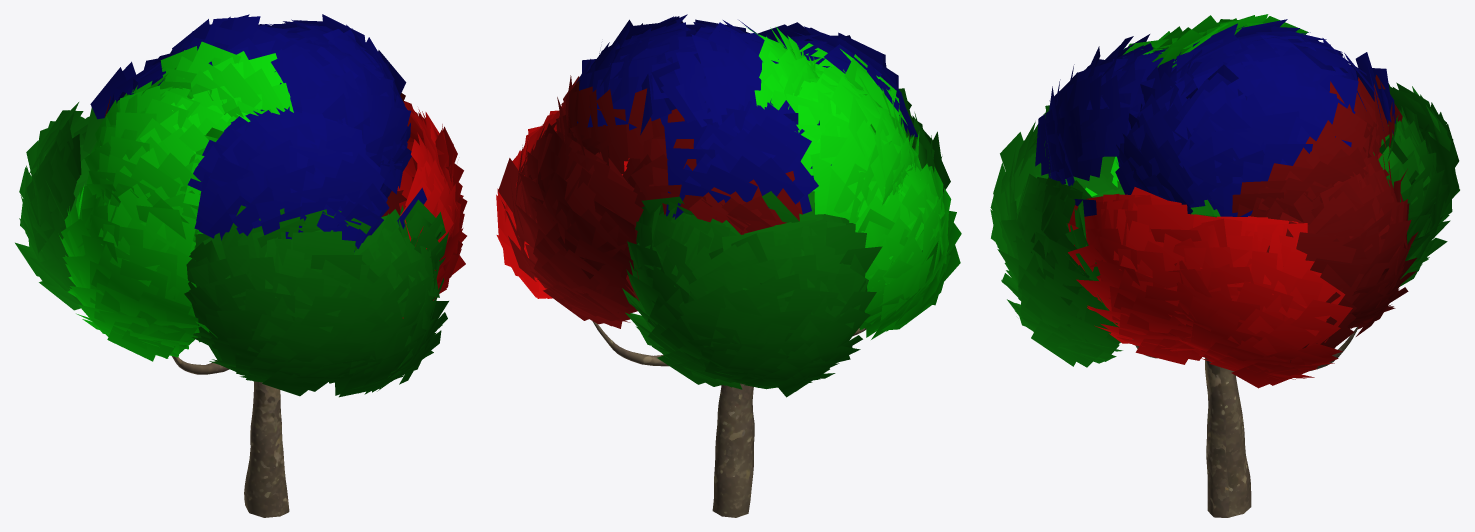
The model's file is Standar_Tree_Small_LOD.fbx.
3 views of the same model, side by side, from view 1: azimuth 30°, elevation 25°; view 2: azimuth 150°, elevation 25°; view 3: azimuth 270°, elevation 25° (orthographic). The views are drawn at different scales.
Visible parts, largest first — view 1: Standar_Trunk_Small_LOD0; view 2: Standar_Trunk_Small_LOD0; view 3: Standar_Trunk_Small_LOD0.
Part boxes in pixels (left/top/right/bottom): Standar_Trunk_Small_LOD0: left=15, top=14, right=467, bottom=517; Standar_Trunk_Small_LOD0: left=496, top=14, right=961, bottom=517; Standar_Trunk_Small_LOD0: left=990, top=14, right=1459, bottom=517.
Size of what is drawn, in the model's own units: 1635 by 1882 by 1667.
